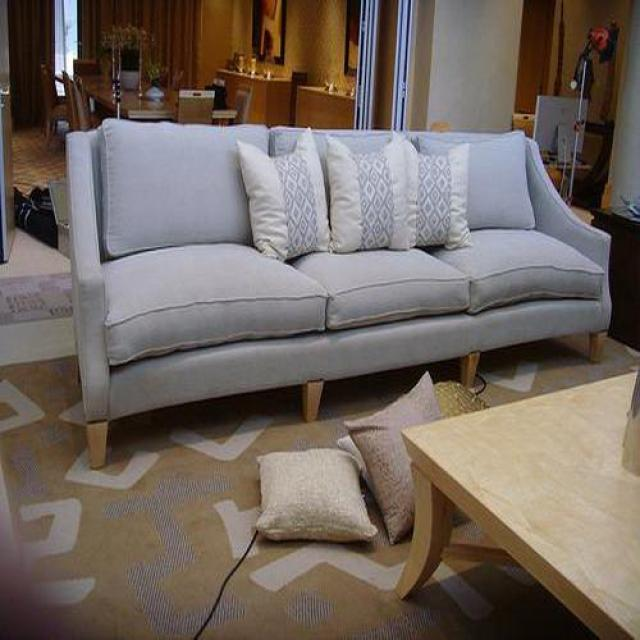sofa: (67, 119, 614, 472)
